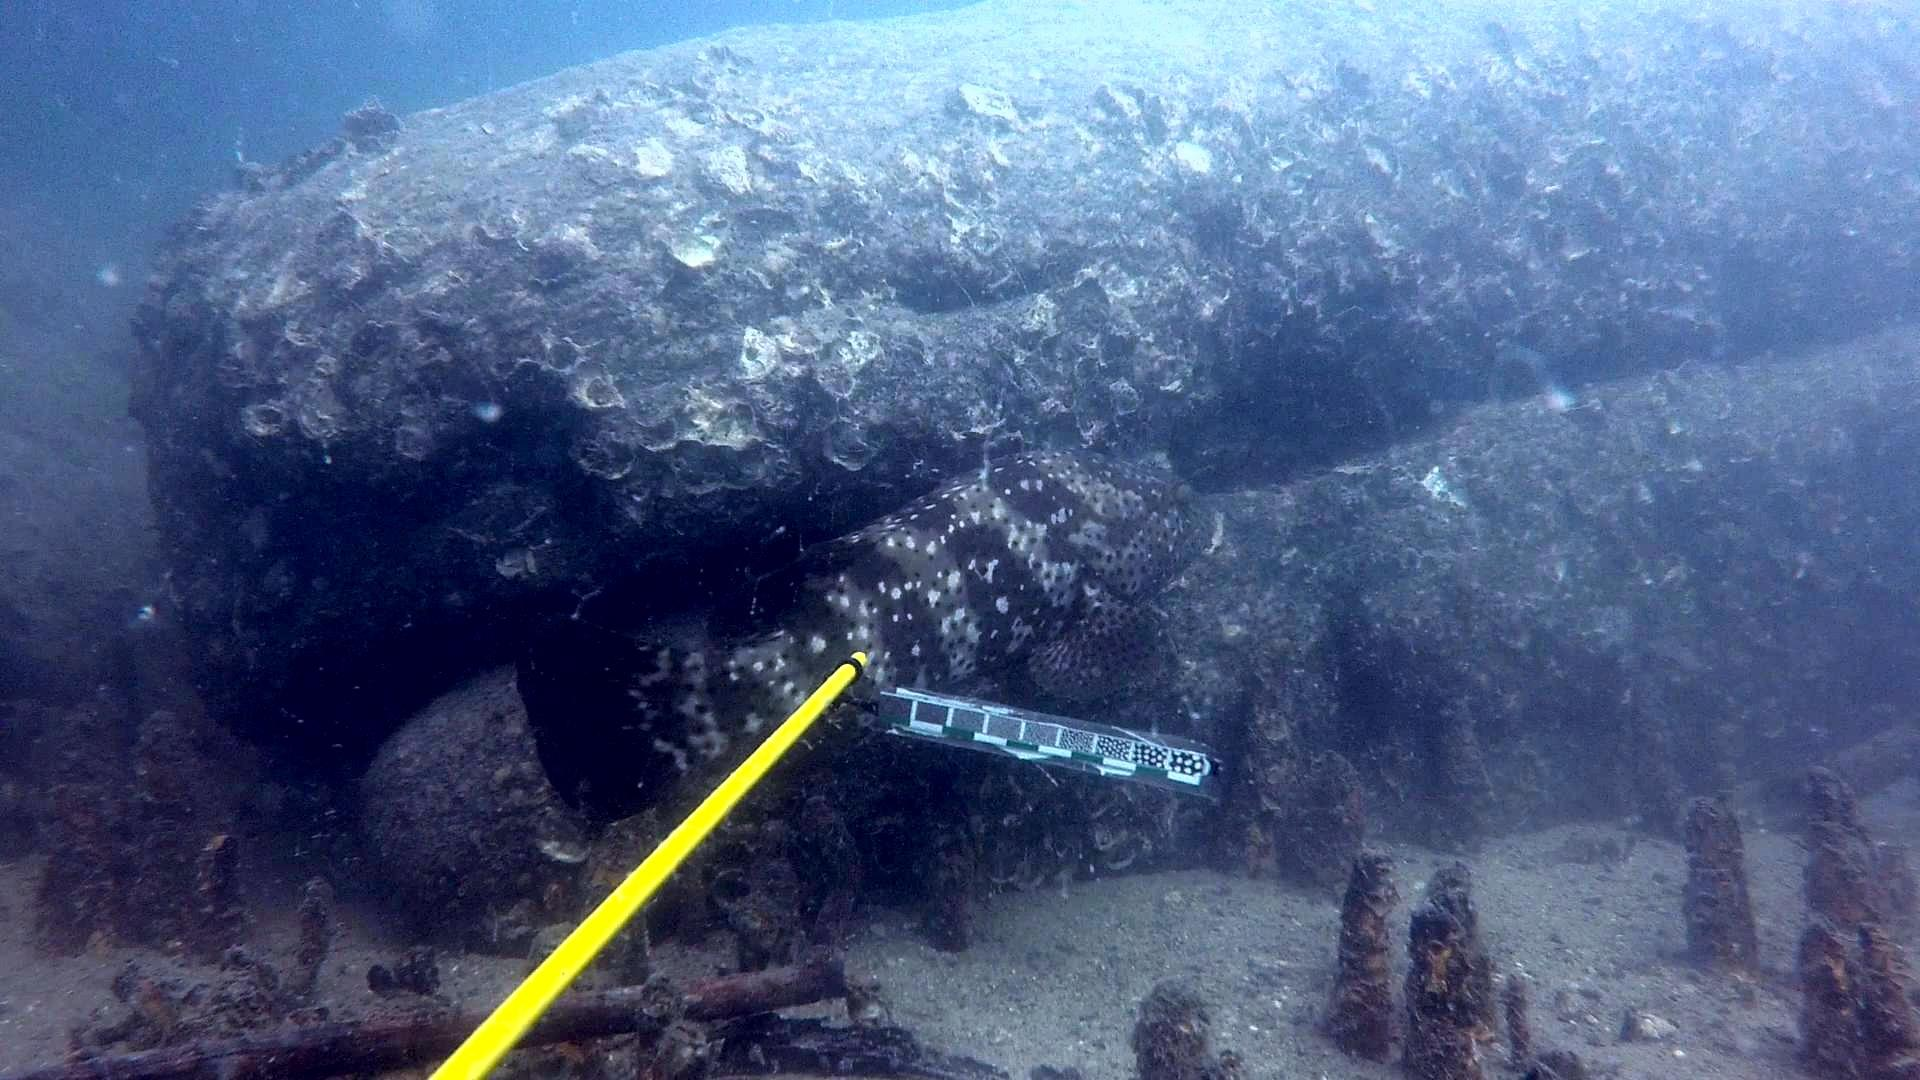epinephelus: (512, 440, 1226, 833)
